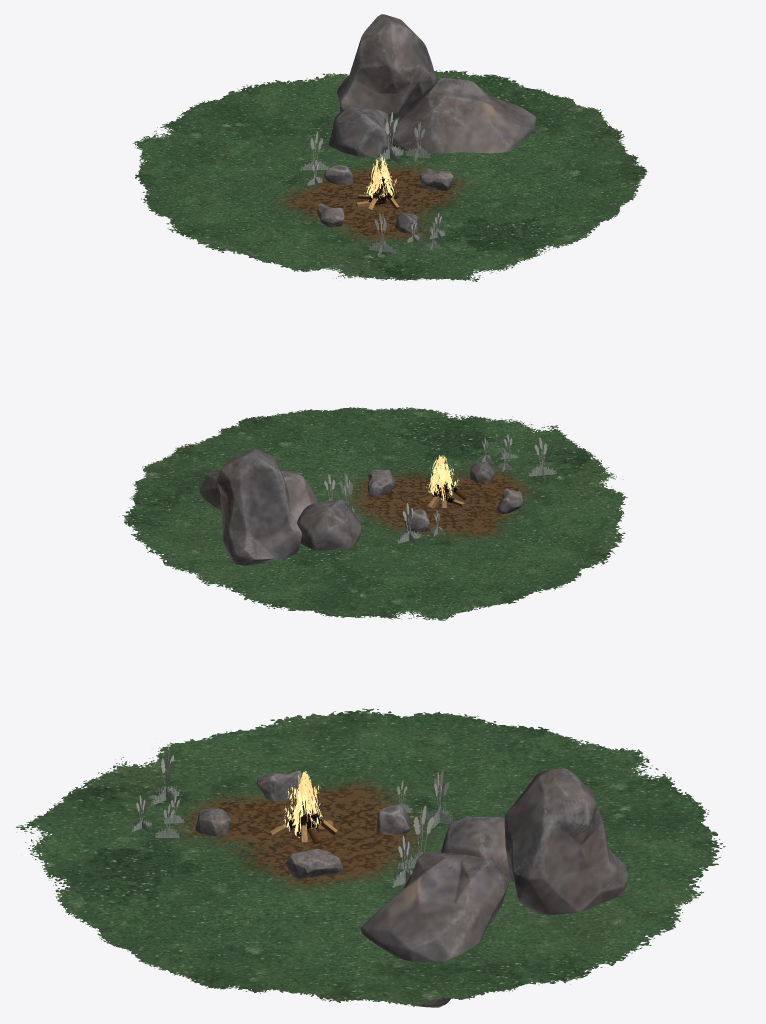
File: cozy_campfire_-_shape_key_animation.glb
3 views of the same model, one above another, from view 1: azimuth 30°, elevation 25°; view 2: azimuth 150°, elevation 25°; view 3: azimuth 270°, elevation 25° (orthographic). The views are drawn at different scales.
Visible parts, largest first — view 1: Ground_8, Sitting Stone1.004_27, Sitting Stone1.006_33, Sitting Stone1.005_28, Flames_7, Sitting Stone1.003_13; view 2: Ground_8, Sitting Stone1.006_33, Sitting Stone1.005_28, Sitting Stone1.004_27, Flames_7, Sitting Stone1.003_13; view 3: Ground_8, Sitting Stone1.006_33, Sitting Stone1.004_27, Sitting Stone1.005_28, Sitting Stone1.003_13, Flames_7, Sitting Stone1.001_11, Sitting Stone1_10, Sitting Stone1.002_12, Plane.013_30.
Boxes of the visible parts, x1,y1,x2,y2 form: Ground_8: (132, 70, 647, 281); Sitting Stone1.004_27: (391, 78, 536, 153); Sitting Stone1.006_33: (337, 14, 435, 120); Sitting Stone1.005_28: (329, 106, 391, 156); Flames_7: (364, 156, 397, 200); Sitting Stone1.003_13: (420, 168, 453, 190); Ground_8: (119, 407, 627, 620); Sitting Stone1.006_33: (217, 448, 301, 565); Sitting Stone1.005_28: (297, 499, 361, 550); Sitting Stone1.004_27: (199, 470, 318, 523); Flames_7: (426, 455, 459, 500); Sitting Stone1.003_13: (367, 469, 395, 497); Ground_8: (16, 708, 725, 1006); Sitting Stone1.006_33: (504, 768, 628, 914); Sitting Stone1.004_27: (360, 851, 509, 1007); Sitting Stone1.005_28: (441, 816, 511, 880); Sitting Stone1.003_13: (285, 848, 343, 878); Flames_7: (283, 771, 322, 837); Sitting Stone1.001_11: (256, 770, 305, 800); Sitting Stone1_10: (376, 805, 410, 834); Sitting Stone1.002_12: (195, 808, 231, 836); Plane.013_30: (397, 805, 433, 868).
Bounding box in the file's own units: 56.97 × 16.98 × 56.97.
Materials: 5 (5 with a texture image).
